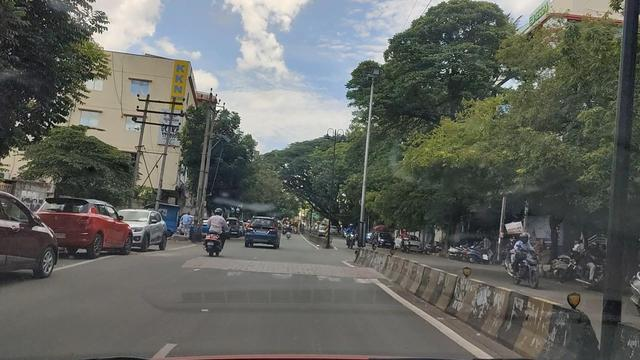LMV: (45, 199, 138, 263)
SpeedBump: (105, 248, 380, 287)
